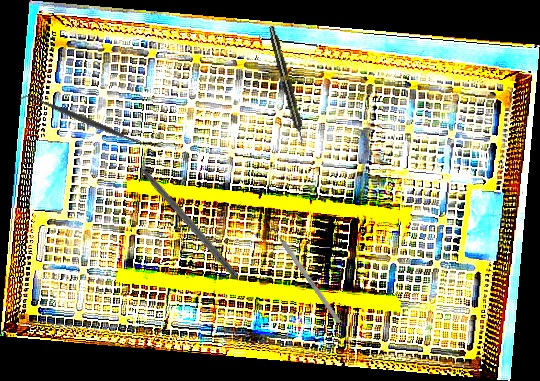Handpiece: (266, 24, 308, 147)
Hook Surgical: (125, 148, 241, 281), (267, 221, 342, 324)
Spatula Surgical: (17, 86, 153, 155)
